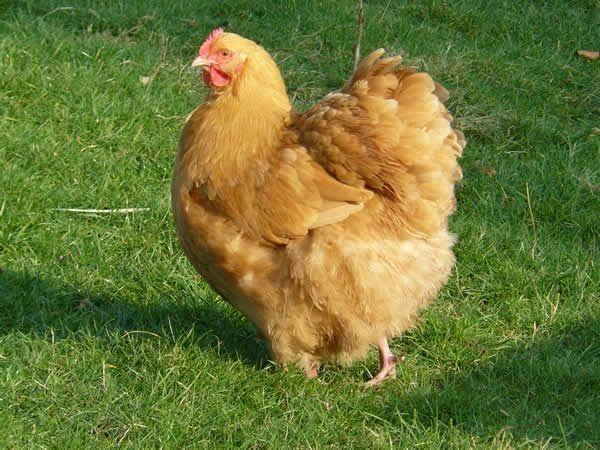chicken: (166, 25, 466, 398)
